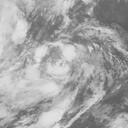cyclone: (36, 24, 116, 98)
